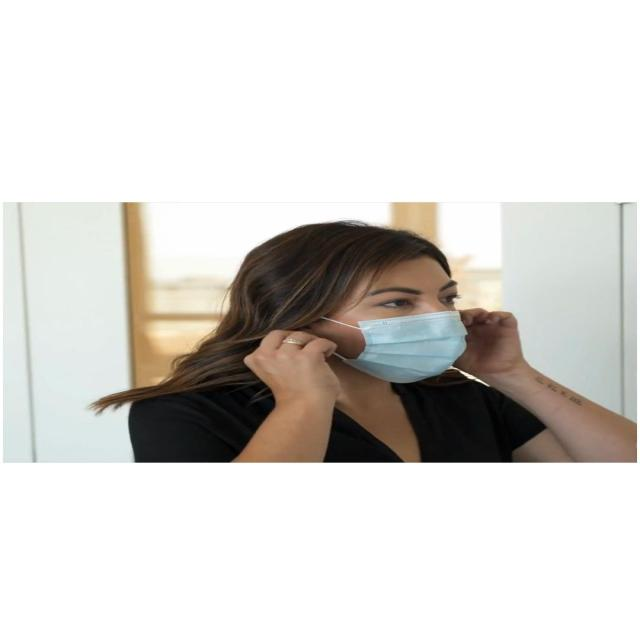Mask: (316, 255, 470, 384)
